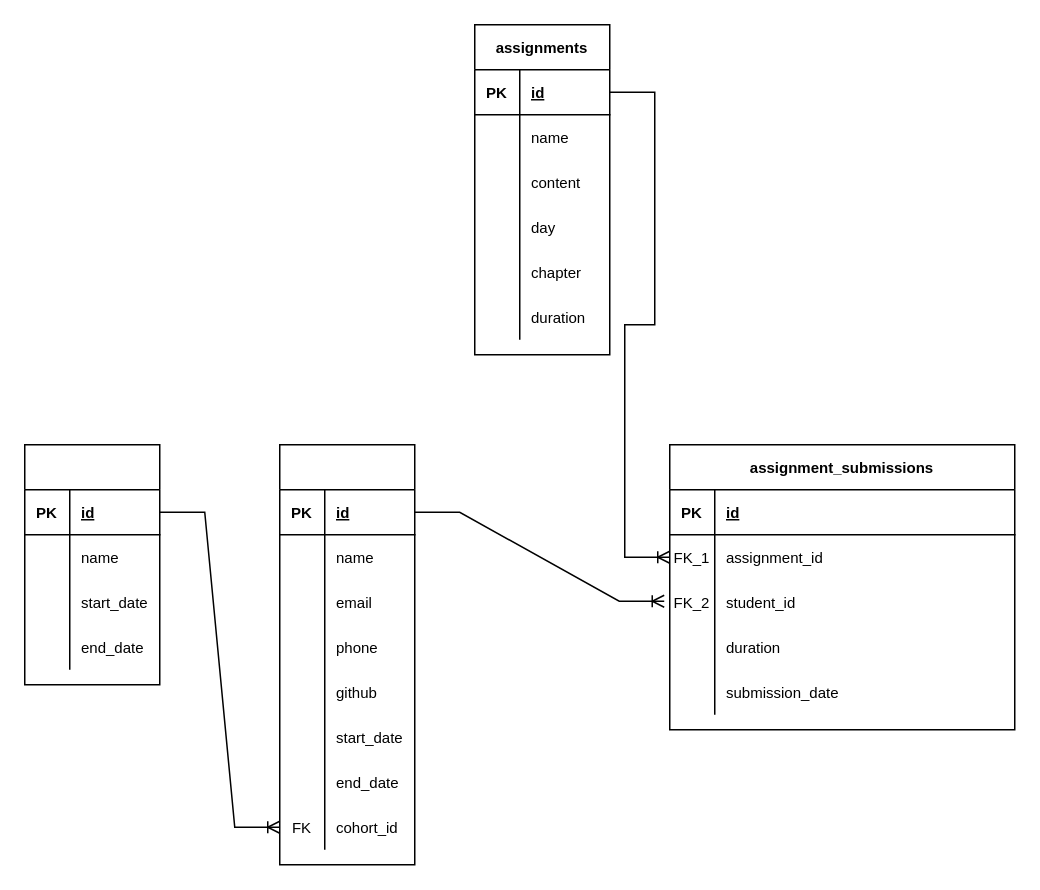
Image size: 1040x890. Some labels were removed from this diagram. The box of each missing label's shape, as (x1, y1, x2, y2) in pixels:
cohorts: (23, 443, 160, 685)
students: (278, 443, 415, 865)
